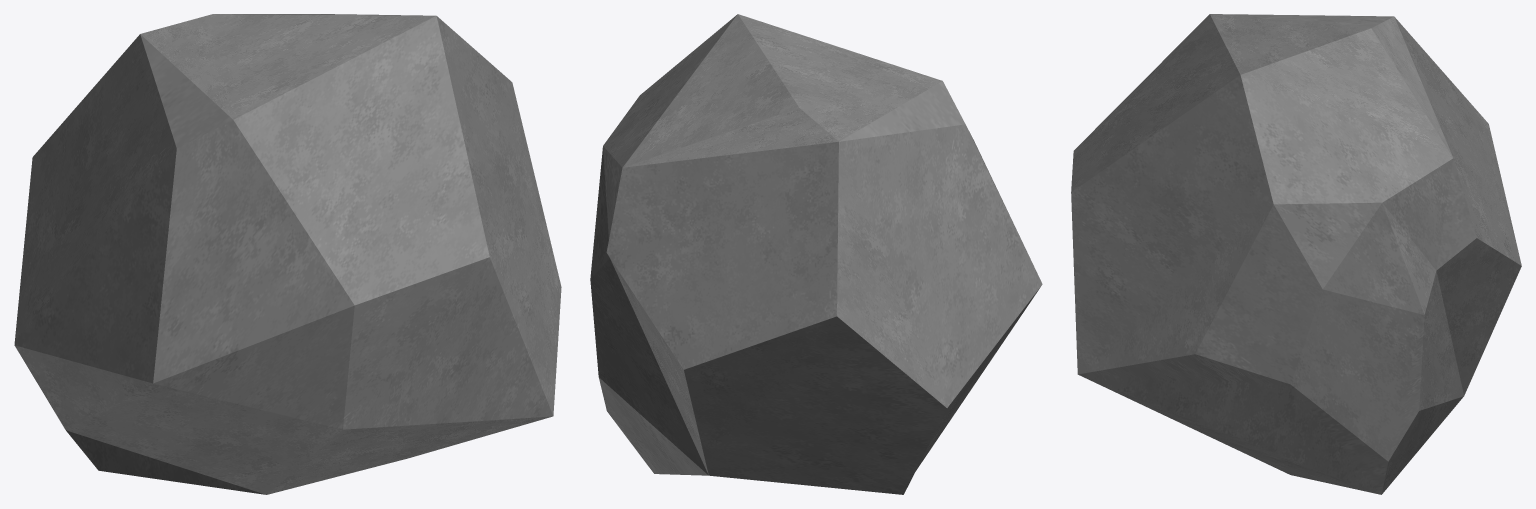
Rendered from Rock_7.glb.
3 views of the same model, side by side, from view 1: azimuth 30°, elevation 25°; view 2: azimuth 150°, elevation 25°; view 3: azimuth 270°, elevation 25° (orthographic). The views are drawn at different scales.
Visible parts, largest first — view 1: Icosphere.035_Icosphere.135; view 2: Icosphere.035_Icosphere.135; view 3: Icosphere.035_Icosphere.135.
Part boxes in pixels (box(x1,y1,x2,y2)): Icosphere.035_Icosphere.135: box(14, 14, 561, 494); Icosphere.035_Icosphere.135: box(590, 14, 1042, 494); Icosphere.035_Icosphere.135: box(1071, 14, 1521, 494).
Bounding box in the file's own units: 1.62 × 1.66 × 1.64.
1 material, 1 textured.
